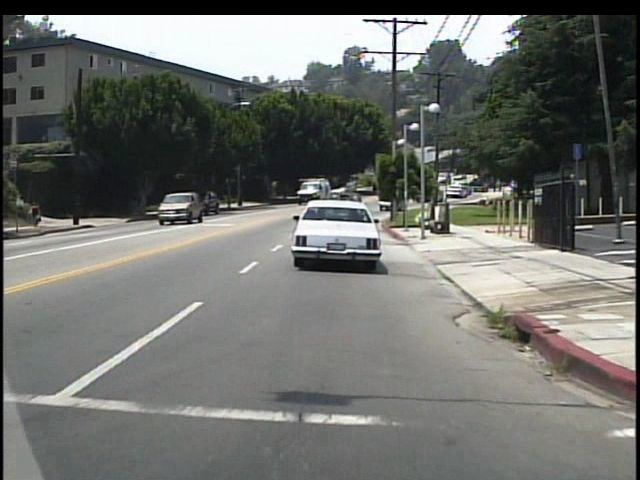person: (33, 198, 43, 229)
